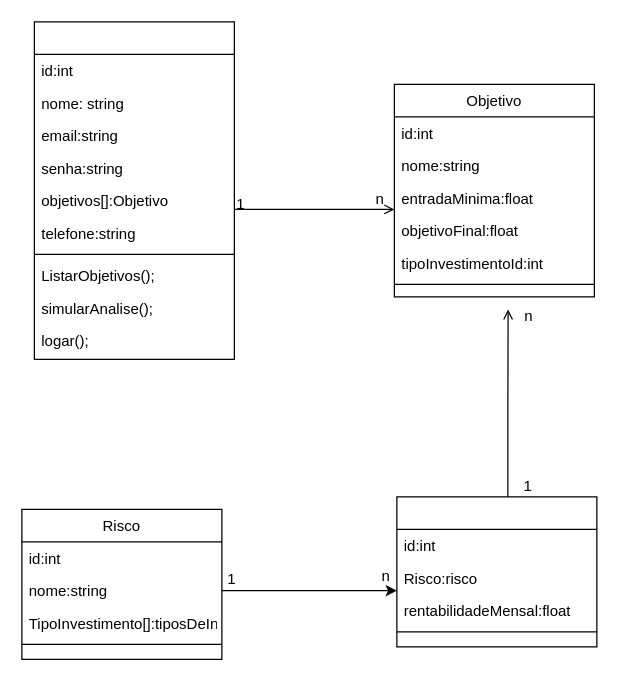
The diagram is 619 pixels wide and 681 high, and some of its shapes have lost their labels. Here are the shapes that lost their labels. From the top down, the box of each, then its label:
(33, 21, 234, 359): Usuario
(396, 496, 597, 647): TipoInvestimento
